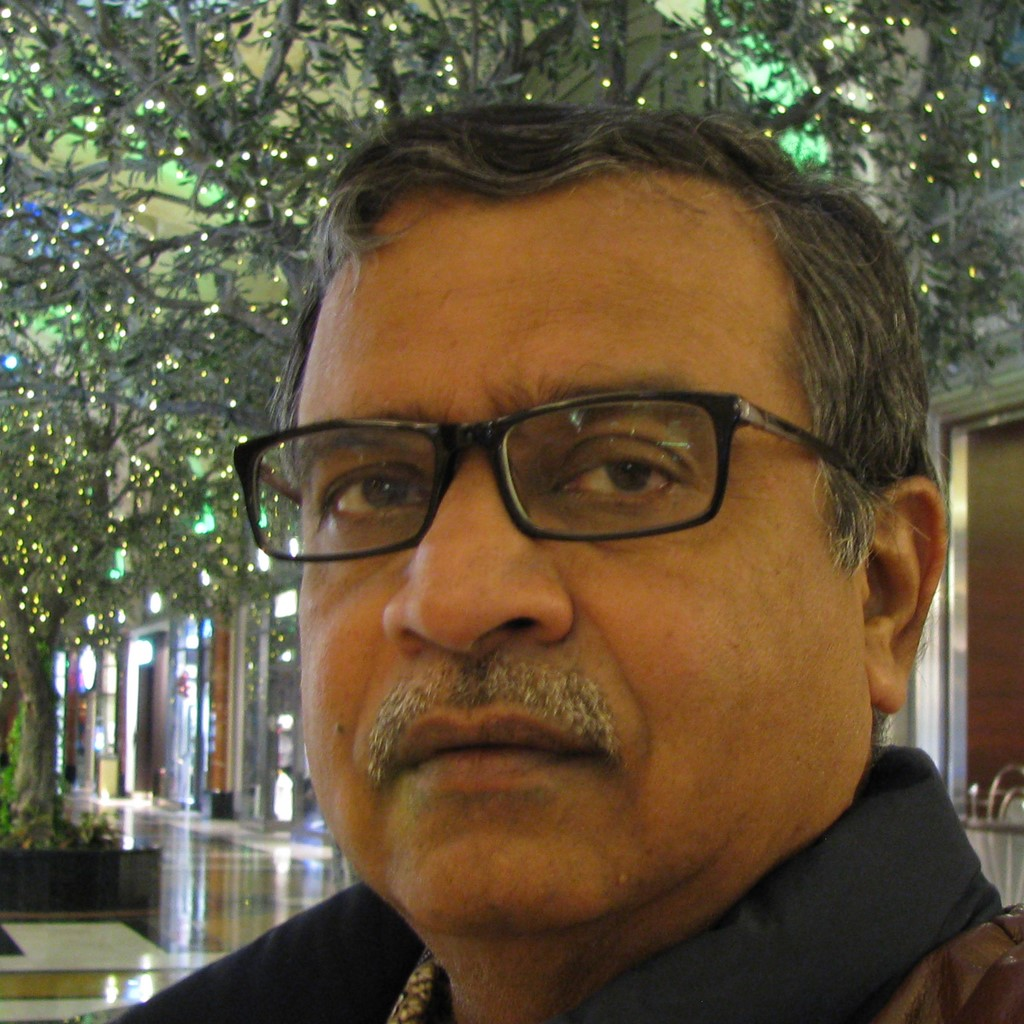sin_mascara: (251, 164, 894, 927)
